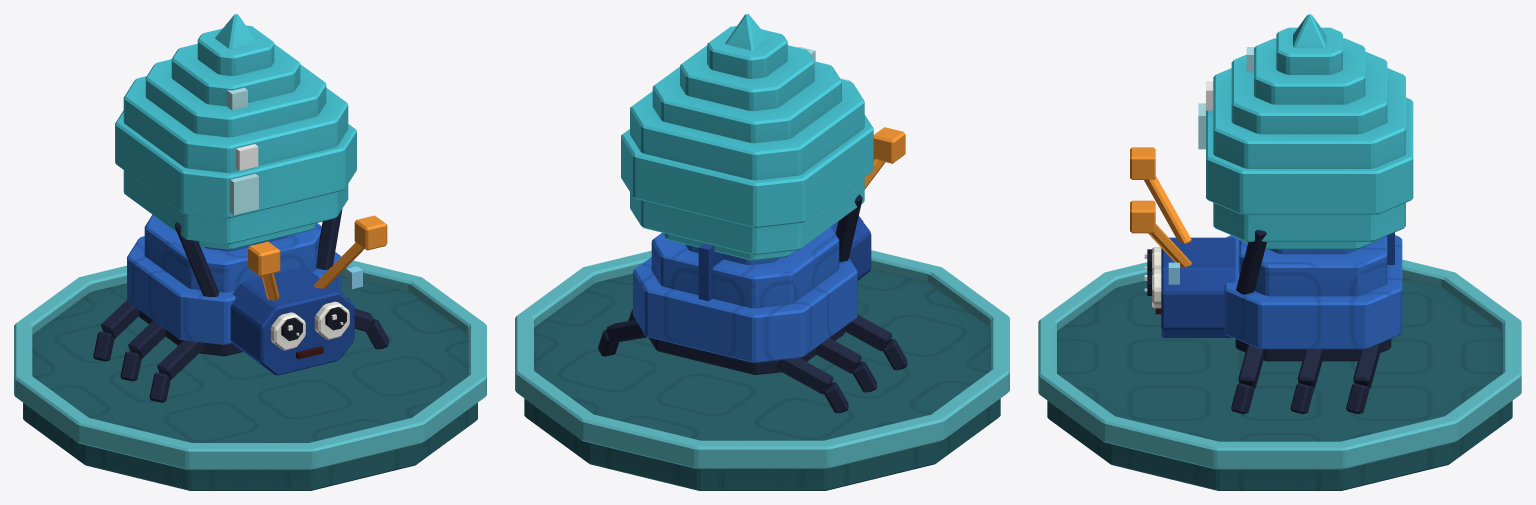
The model's file is DropBeetle.fbx.
The picture shows the model from 3 angles, left to right: view 1: azimuth 30°, elevation 25°; view 2: azimuth 150°, elevation 25°; view 3: azimuth 270°, elevation 25°; orthographic projection. The views are drawn at different scales.
Visible parts, largest first — view 1: Art_DropBeetle_Stand, Art_DropBeetle_Drop, Art_DropBeetle_Body, Art_DropBeetle_Head, Art_DropBeetle_LegsL, Art_DropBeetle_AntennaR, Art_DropBeetle_AntennaL, Art_DropBeetle_LegsR; view 2: Art_DropBeetle_Stand, Art_DropBeetle_Drop, Art_DropBeetle_Body, Art_DropBeetle_LegsL, Art_DropBeetle_AntennaL, Art_DropBeetle_Head, Art_DropBeetle_LegsR; view 3: Art_DropBeetle_Stand, Art_DropBeetle_Drop, Art_DropBeetle_Body, Art_DropBeetle_Head, Art_DropBeetle_LegsR, Art_DropBeetle_AntennaL, Art_DropBeetle_AntennaR.
Part boxes in pixels (x1=…): Art_DropBeetle_Stand: x1=14, y1=260, x2=486, y2=490; Art_DropBeetle_Drop: x1=115, y1=14, x2=356, y2=296; Art_DropBeetle_Body: x1=127, y1=214, x2=341, y2=356; Art_DropBeetle_Head: x1=230, y1=266, x2=362, y2=375; Art_DropBeetle_LegsL: x1=93, y1=300, x2=204, y2=402; Art_DropBeetle_AntennaR: x1=314, y1=215, x2=387, y2=288; Art_DropBeetle_AntennaL: x1=248, y1=241, x2=280, y2=300; Art_DropBeetle_LegsR: x1=341, y1=293, x2=388, y2=349; Art_DropBeetle_Stand: x1=515, y1=250, x2=1009, y2=490; Art_DropBeetle_Drop: x1=621, y1=14, x2=873, y2=262; Art_DropBeetle_Body: x1=633, y1=227, x2=857, y2=374; Art_DropBeetle_LegsL: x1=776, y1=315, x2=907, y2=413; Art_DropBeetle_AntennaL: x1=864, y1=127, x2=905, y2=189; Art_DropBeetle_Head: x1=831, y1=216, x2=871, y2=280; Art_DropBeetle_LegsR: x1=598, y1=309, x2=646, y2=356; Art_DropBeetle_Stand: x1=1038, y1=259, x2=1521, y2=490; Art_DropBeetle_Drop: x1=1198, y1=14, x2=1413, y2=294; Art_DropBeetle_Body: x1=1224, y1=232, x2=1402, y2=361; Art_DropBeetle_Head: x1=1144, y1=237, x2=1235, y2=337; Art_DropBeetle_LegsR: x1=1231, y1=343, x2=1380, y2=414; Art_DropBeetle_AntennaL: x1=1130, y1=147, x2=1191, y2=243; Art_DropBeetle_AntennaR: x1=1130, y1=200, x2=1191, y2=267.
Size of the model in its own units: 2.61 by 2.25 by 2.61.
